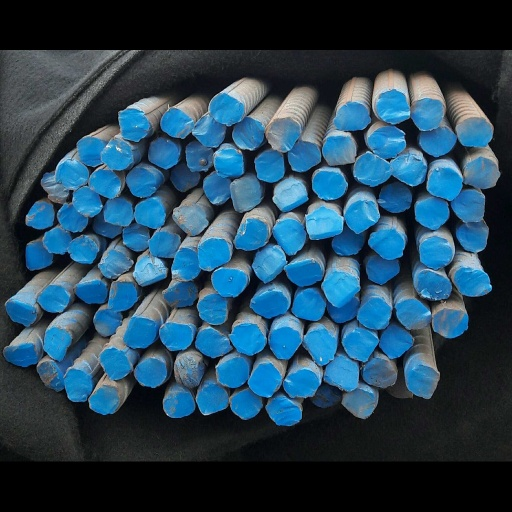dipstick: (252, 243, 287, 289), (354, 127, 392, 169), (323, 275, 359, 319), (341, 345, 377, 388), (303, 346, 337, 391), (272, 159, 308, 201), (324, 380, 359, 423), (272, 210, 306, 254), (418, 95, 457, 133), (462, 133, 499, 173), (230, 339, 266, 380), (306, 194, 342, 235), (427, 146, 463, 187), (379, 342, 414, 384), (376, 49, 410, 92), (247, 388, 280, 432), (454, 269, 492, 307), (172, 193, 209, 232), (368, 95, 405, 134), (197, 233, 231, 275), (230, 156, 261, 202), (407, 391, 440, 434), (264, 87, 300, 126), (209, 53, 244, 93), (291, 297, 326, 337), (345, 186, 379, 227), (415, 183, 449, 224), (195, 345, 232, 382), (333, 64, 371, 100), (395, 309, 431, 347), (415, 273, 451, 311), (368, 222, 404, 260), (287, 113, 321, 153), (451, 174, 485, 214), (268, 344, 301, 385), (390, 131, 426, 168), (432, 321, 468, 358), (160, 71, 194, 110), (192, 81, 226, 120), (342, 421, 376, 460), (216, 380, 249, 420), (419, 232, 452, 272), (455, 210, 488, 250), (232, 82, 264, 123), (211, 271, 247, 307), (362, 383, 397, 420), (457, 83, 492, 120), (174, 375, 204, 418), (123, 331, 156, 370), (196, 415, 229, 454), (133, 255, 166, 294), (234, 209, 267, 248), (147, 108, 179, 148), (118, 72, 149, 113), (40, 151, 71, 192), (171, 246, 201, 288), (266, 431, 301, 467), (159, 338, 193, 375), (322, 106, 356, 143), (285, 260, 322, 294), (378, 165, 412, 202), (229, 421, 262, 459), (250, 300, 288, 333), (253, 126, 285, 165), (98, 248, 132, 284), (282, 396, 318, 430), (312, 151, 346, 187), (365, 255, 399, 291), (56, 136, 89, 173), (101, 111, 133, 149), (100, 371, 131, 410), (213, 120, 244, 159), (412, 60, 443, 99), (197, 302, 227, 342), (168, 139, 200, 176), (134, 184, 165, 222), (185, 111, 214, 151), (203, 154, 232, 194), (332, 220, 365, 255), (325, 306, 360, 339), (88, 148, 120, 184), (37, 291, 69, 327), (163, 286, 197, 319), (308, 411, 341, 445), (36, 386, 64, 426), (64, 397, 92, 437), (57, 190, 88, 226), (44, 345, 71, 386), (126, 146, 155, 184), (134, 384, 166, 418), (108, 288, 137, 325), (163, 424, 195, 457), (148, 225, 180, 258), (5, 310, 36, 344), (68, 230, 98, 265), (103, 183, 133, 218), (76, 108, 105, 144), (73, 170, 101, 207), (93, 199, 123, 233), (90, 417, 119, 452), (25, 238, 53, 274), (122, 214, 149, 251), (25, 189, 54, 223), (74, 286, 108, 315), (3, 365, 37, 393), (94, 322, 122, 356), (43, 222, 71, 253)
